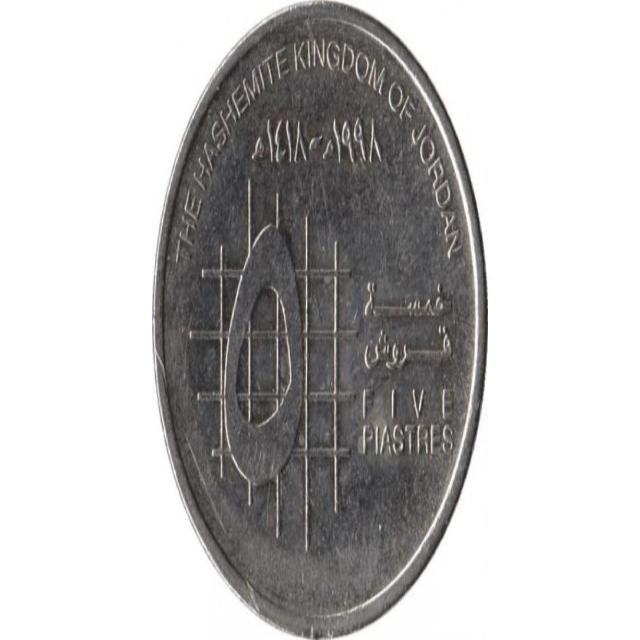5-coins: (150, 1, 490, 640)
